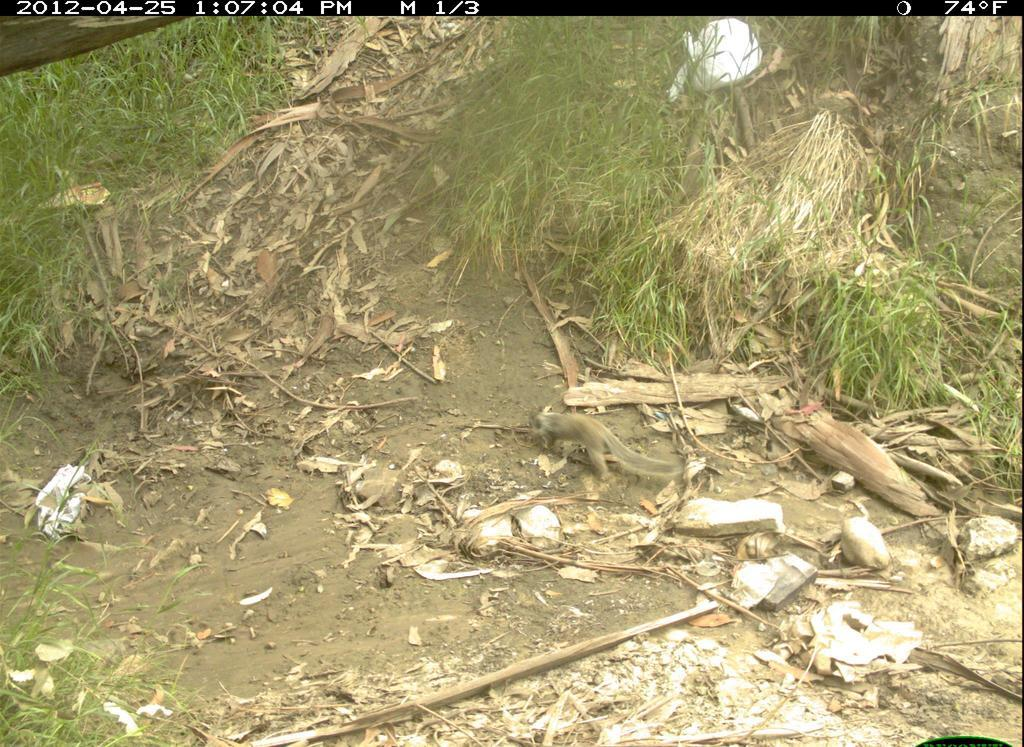squirrel: (527, 397, 690, 506)
